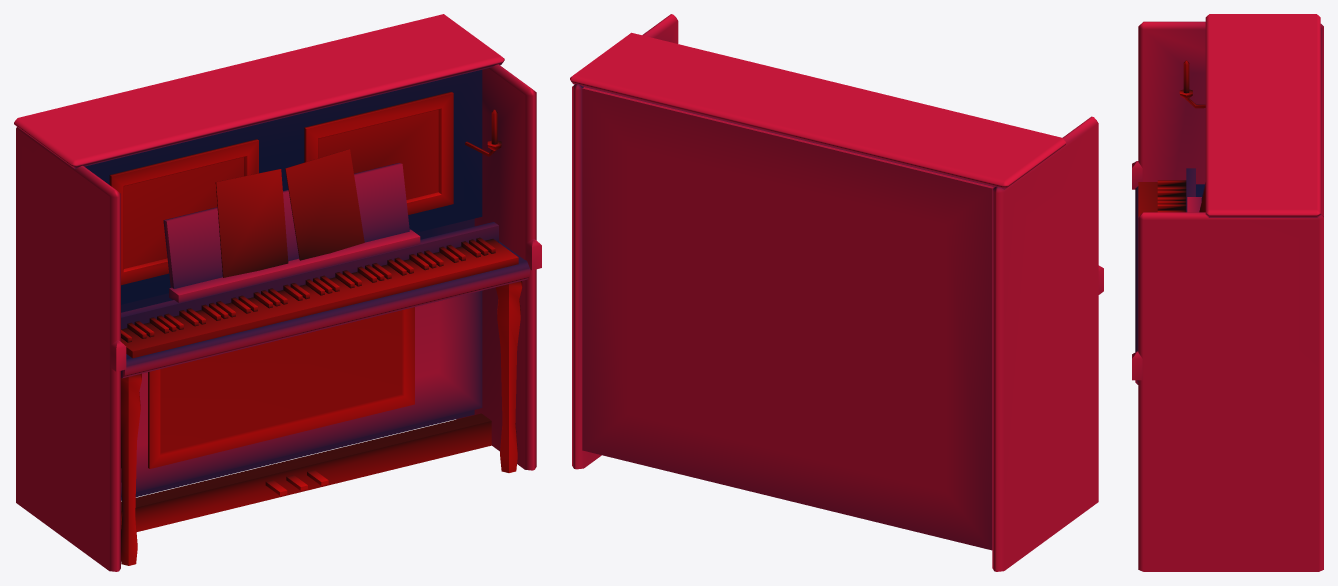
File: CI_Living_Piano_Upright_LOD0.glb
3 renders of one model, left to right at view 1: azimuth 30°, elevation 25°; view 2: azimuth 150°, elevation 25°; view 3: azimuth 270°, elevation 25°, orthographic. The views are drawn at different scales.
Visible parts, largest first — view 1: CI_Living_Piano_Upright_LOD0; view 2: CI_Living_Piano_Upright_LOD0; view 3: CI_Living_Piano_Upright_LOD0.
Boxes of the visible parts, x1=… form: CI_Living_Piano_Upright_LOD0: x1=14, y1=14, x2=541, y2=571; CI_Living_Piano_Upright_LOD0: x1=570, y1=14, x2=1103, y2=571; CI_Living_Piano_Upright_LOD0: x1=1132, y1=14, x2=1323, y2=571.
Size of the model in its own units: 1.47 by 1.25 by 0.6.
